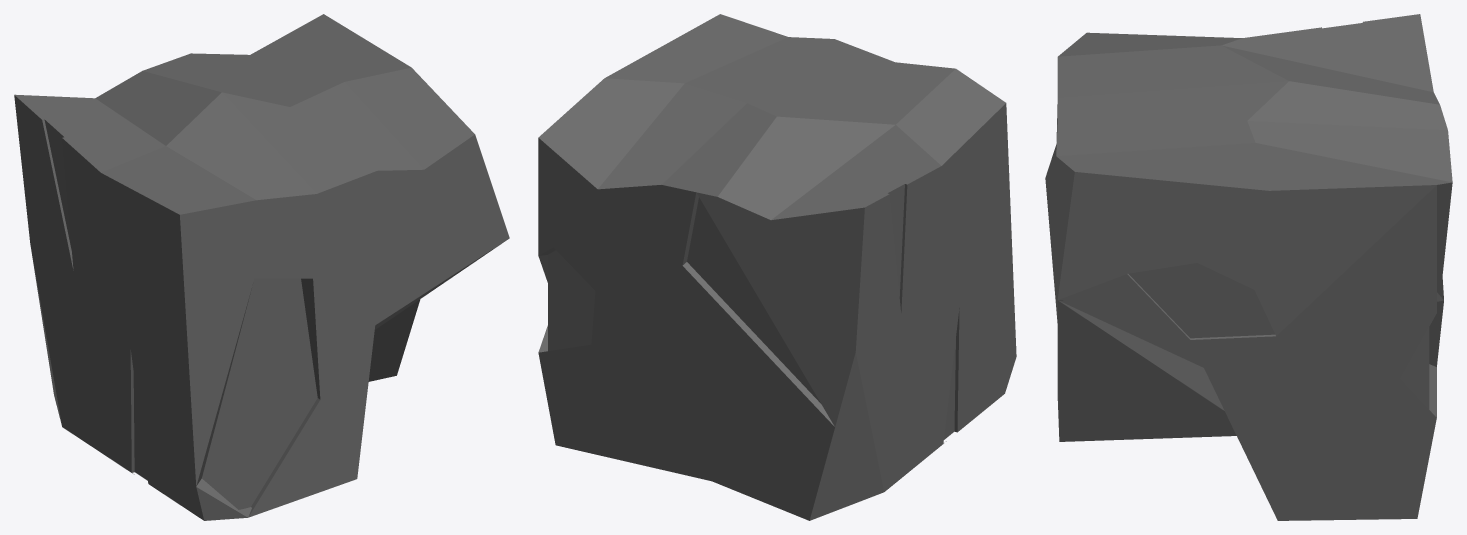
The model's file is Rock_8b_001.fbx.
The picture shows the model from 3 angles, left to right: view 1: azimuth 30°, elevation 25°; view 2: azimuth 150°, elevation 25°; view 3: azimuth 270°, elevation 25°; orthographic projection. The views are drawn at different scales.
Parts seen in each view (by area): view 1: Rock_8b.001; view 2: Rock_8b.001; view 3: Rock_8b.001.
Part boxes in pixels (x1,y1,x2,y2): Rock_8b.001: [14, 14, 509, 520]; Rock_8b.001: [538, 14, 1016, 520]; Rock_8b.001: [1045, 14, 1452, 520].
Bounding box in the file's own units: 1568 × 1493 × 1542.
